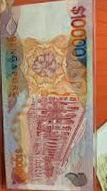10000SingaporeDollar: (5, 4, 91, 190)
